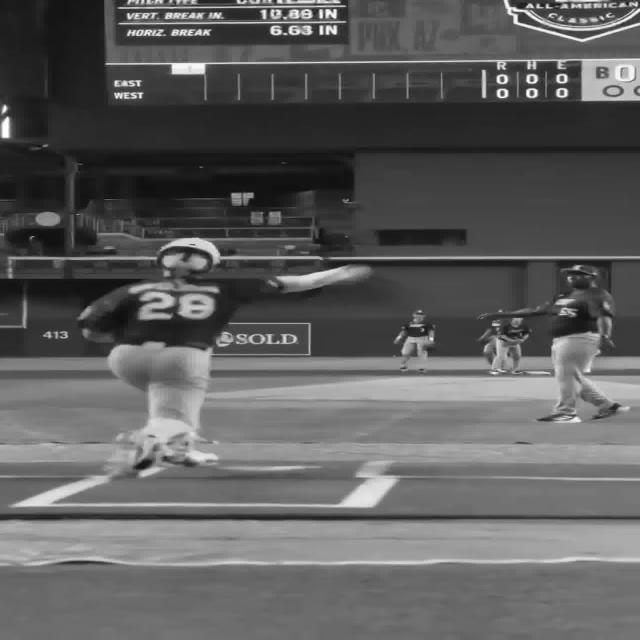base: (525, 370, 552, 375)
baseball: (348, 263, 371, 279)
shoe: (104, 428, 160, 478), (160, 432, 218, 466), (162, 449, 218, 466), (590, 402, 630, 419), (535, 413, 581, 423), (488, 368, 506, 374), (510, 367, 524, 374), (416, 368, 426, 373), (399, 366, 407, 371)
